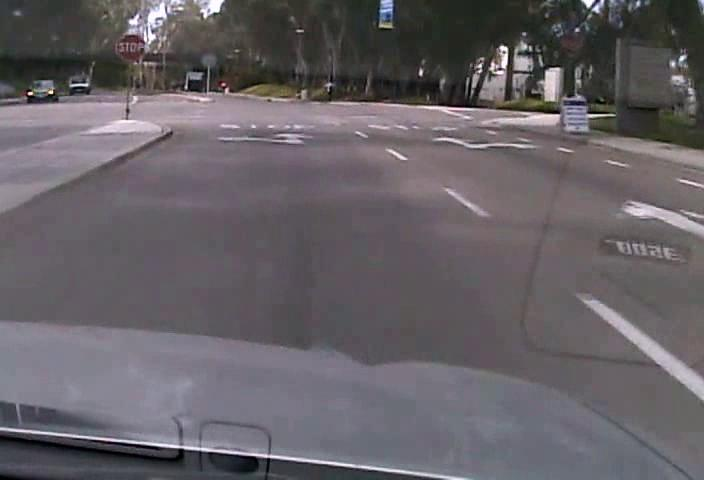stop: (115, 33, 145, 62)
